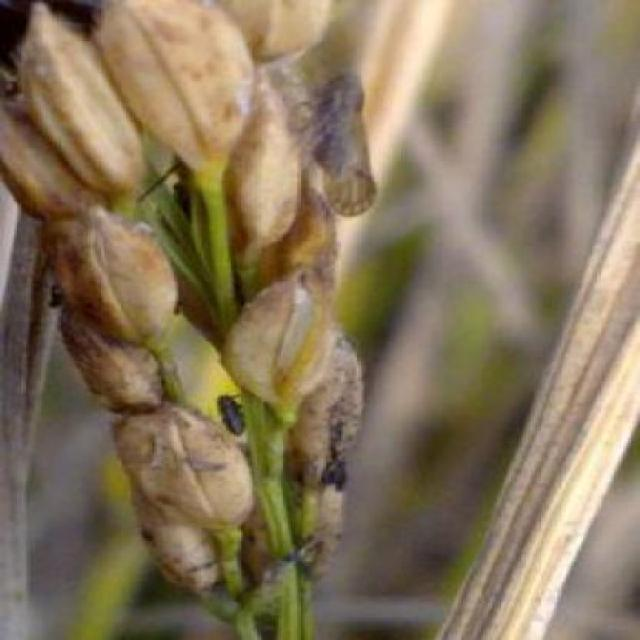brown-planthopper: (308, 74, 384, 218)
